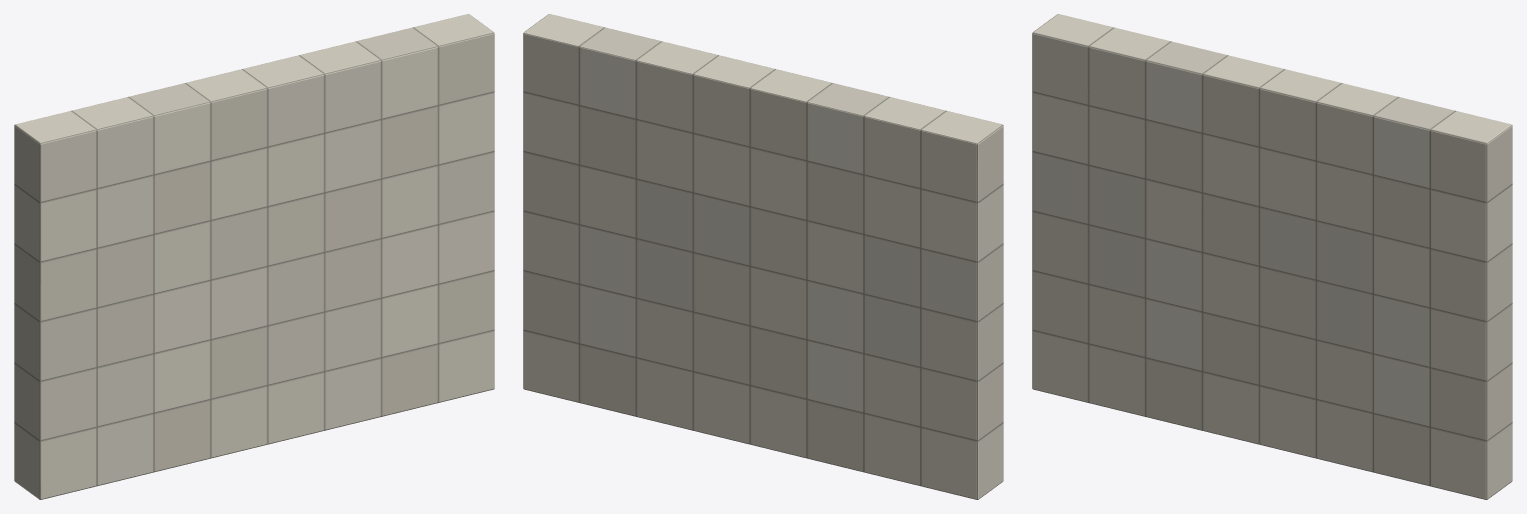
Rendered from MOD_11_HalfWall.glb.
3 renders of one model, left to right at view 1: azimuth 30°, elevation 25°; view 2: azimuth 150°, elevation 25°; view 3: azimuth 330°, elevation 25°, orthographic.
Parts seen in each view (by area): view 1: MOD_11_HalfWall_Export; view 2: MOD_11_HalfWall_Export; view 3: MOD_11_HalfWall_Export.
Part boxes in pixels (bbox=[...]): MOD_11_HalfWall_Export: bbox=[14, 14, 494, 499]; MOD_11_HalfWall_Export: bbox=[523, 14, 1003, 499]; MOD_11_HalfWall_Export: bbox=[1032, 14, 1512, 499].
Bounding box in the file's own units: 2 × 1.5 × 0.2.
Materials: 1 (1 with a texture image).
